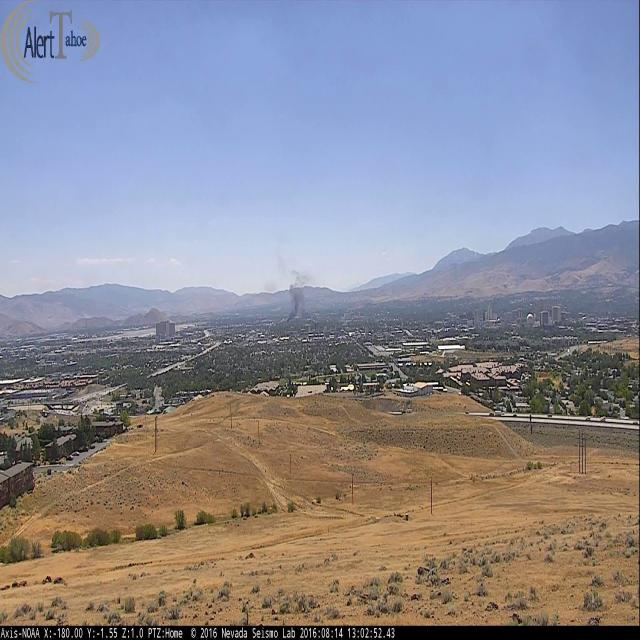smoke: (282, 266, 313, 323)
